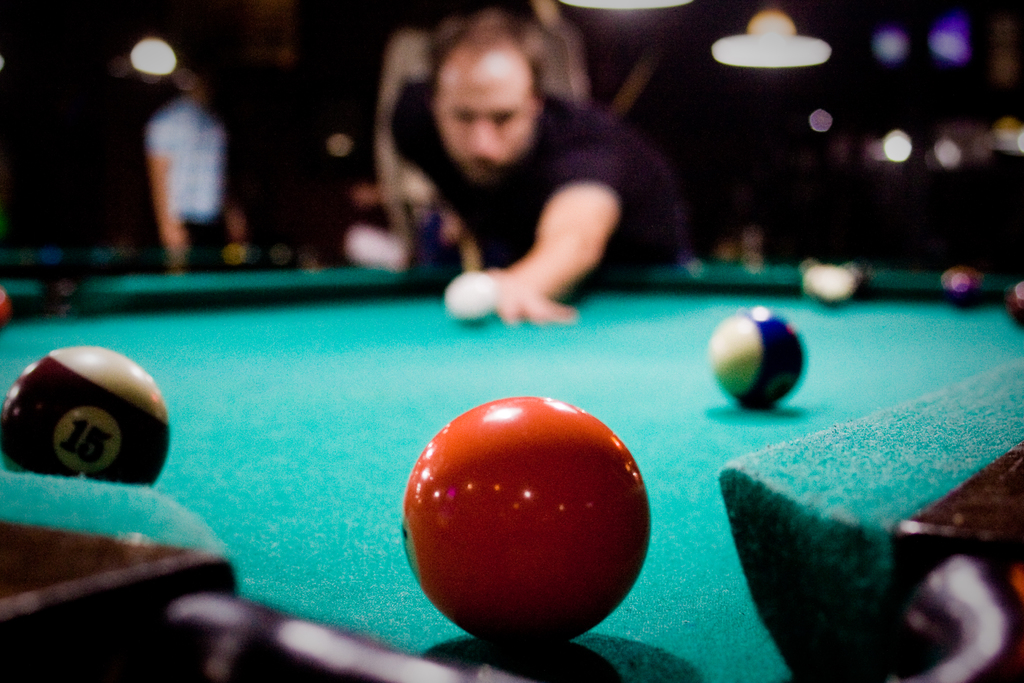Ball: (397, 393, 651, 642), (0, 342, 168, 486), (710, 306, 807, 409), (440, 270, 502, 325), (941, 268, 983, 309)
